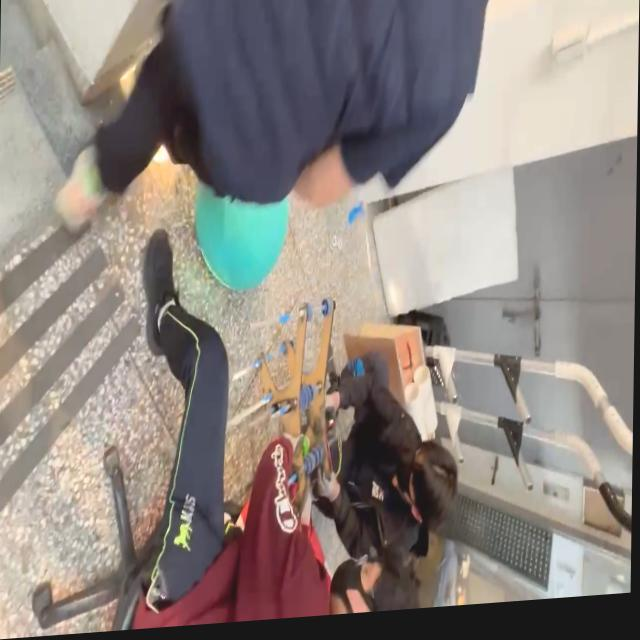ALGAE: (191, 172, 291, 295)
